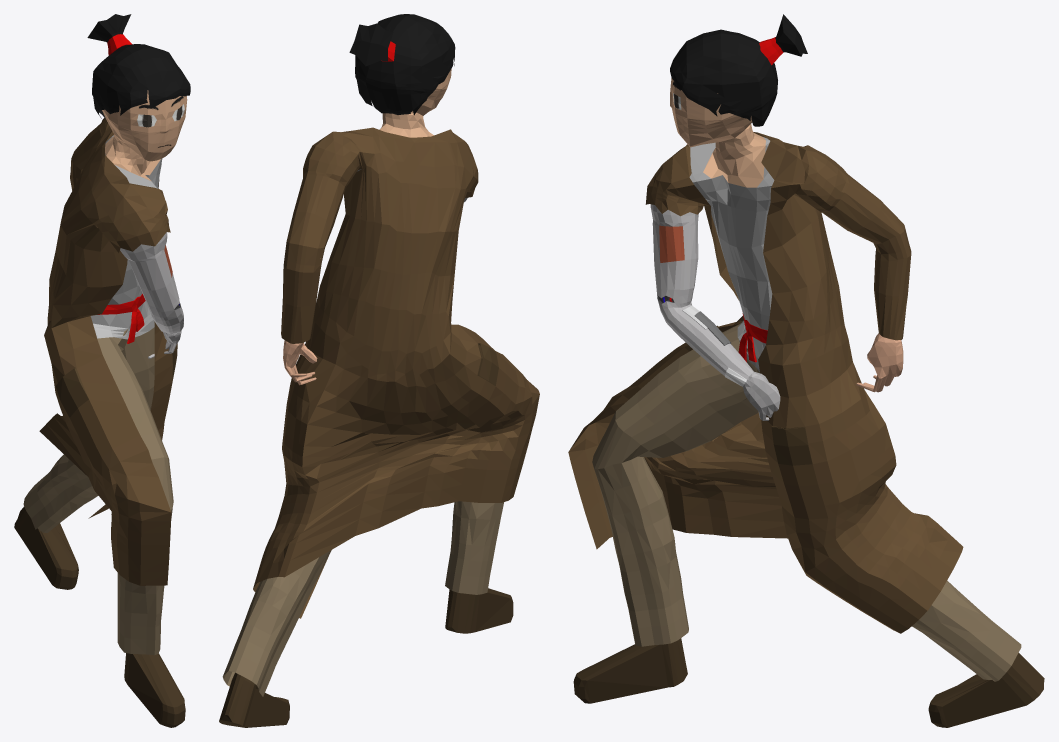
File: OneAnimationTest_000021.obj
3 views of the same model, side by side, from view 1: azimuth 30°, elevation 25°; view 2: azimuth 150°, elevation 25°; view 3: azimuth 270°, elevation 25° (orthographic). The views are drawn at different scales.
Parts seen in each view (by area): view 1: Jacket_Cube, Body_Cube.003, Hair_Cube.004; view 2: Jacket_Cube, Body_Cube.003, Hair_Cube.004; view 3: Jacket_Cube, Body_Cube.003, Hair_Cube.004.
Boxes of the visible parts, <box> form: Jacket_Cube: <box>39,118,177,585</box>; Body_Cube.003: <box>14,90,187,727</box>; Hair_Cube.004: <box>87,14,190,118</box>; Jacket_Cube: <box>253,127,539,618</box>; Body_Cube.003: <box>219,69,513,727</box>; Hair_Cube.004: <box>349,14,455,115</box>; Jacket_Cube: <box>568,132,963,633</box>; Body_Cube.003: <box>573,78,1044,727</box>; Hair_Cube.004: <box>670,14,807,126</box>.
Size of the model in its own units: 0.8998 by 3.65 by 2.26.
